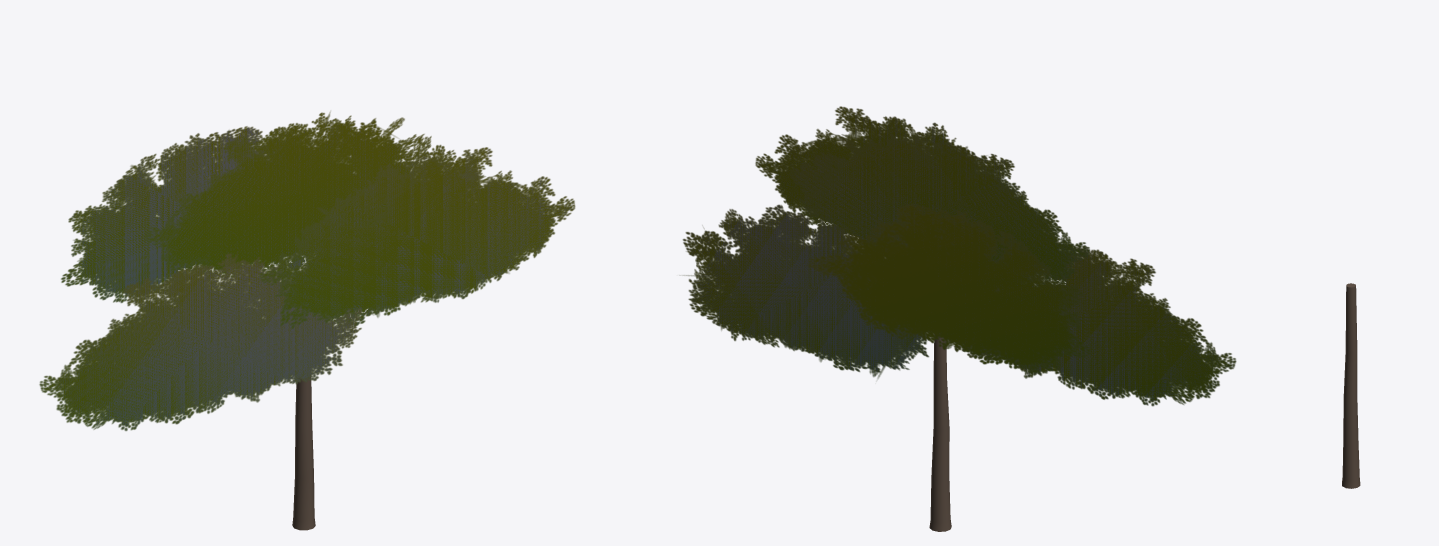
Rendered from tree_small_broad_canopy_lod1.glb.
3 views of the same model, side by side, from view 1: azimuth 30°, elevation 25°; view 2: azimuth 150°, elevation 25°; view 3: azimuth 270°, elevation 25° (orthographic). The views are drawn at different scales.
Visible parts, largest first — view 1: TreeHLOD1_Foliage, Tree_Trunk_Stylized; view 2: TreeHLOD1_Foliage, Tree_Trunk_Stylized; view 3: Tree_Trunk_Stylized.
Part boxes in pixels (<box>): TreeHLOD1_Foliage: <box>39,111,575,430</box>; Tree_Trunk_Stylized: <box>292,375,315,530</box>; TreeHLOD1_Foliage: <box>680,106,1236,406</box>; Tree_Trunk_Stylized: <box>929,337,951,531</box>; Tree_Trunk_Stylized: <box>1342,283,1360,488</box>.
Bounding box in the file's own units: 8.75 × 6.42 × 2.08.
Materials: 2 (1 with a texture image).
